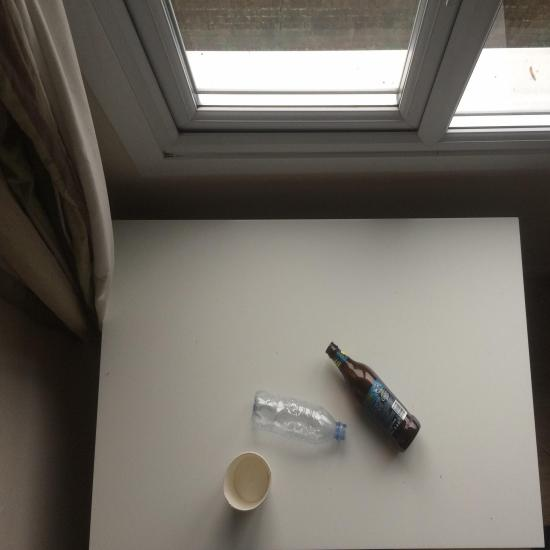Clear plastic bottle: (251, 390, 347, 445)
Glass bottle: (325, 341, 421, 453)
Paper cup: (223, 451, 272, 511)
